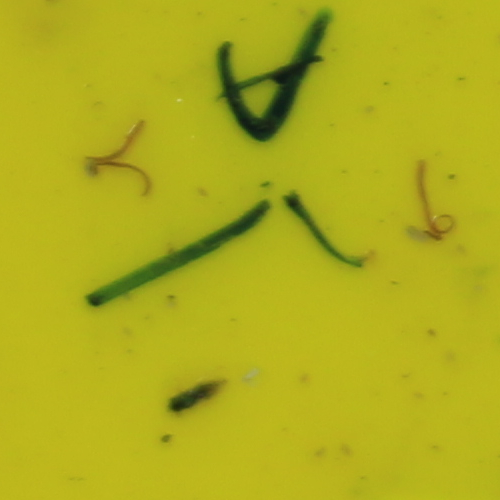wasp: (165, 376, 228, 416)
